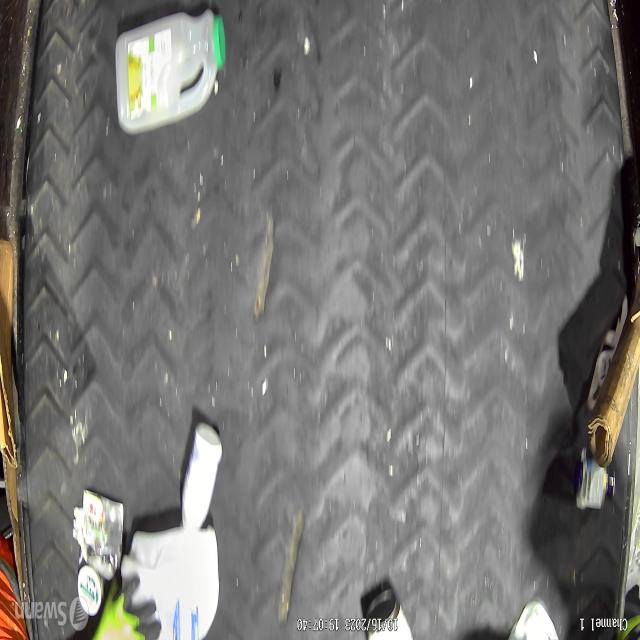can: (83, 488, 124, 581), (366, 586, 414, 640)
milk_jug: (112, 4, 226, 139), (121, 524, 221, 640)
